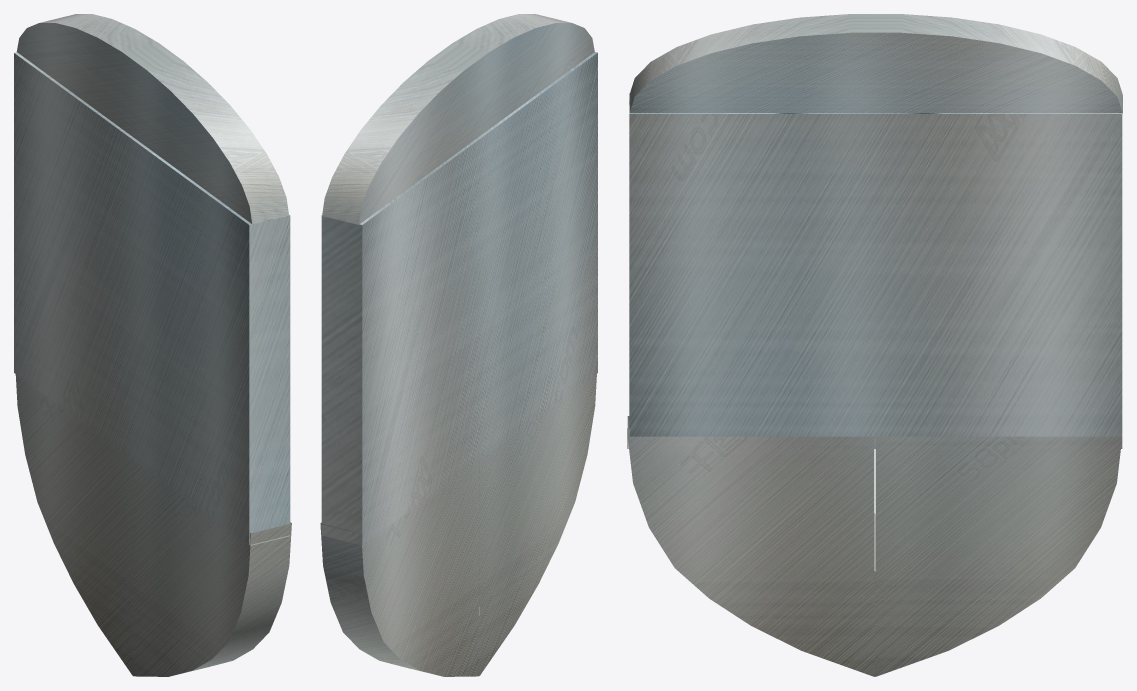
Rendered from 5S_06hudun.FBX.
3 renders of one model, left to right at view 1: azimuth 30°, elevation 25°; view 2: azimuth 150°, elevation 25°; view 3: azimuth 270°, elevation 25°, orthographic. The views are drawn at different scales.
Visible parts, largest first — view 1: 5S_22shield1_10; view 2: 5S_22shield1_10; view 3: 5S_22shield1_10.
Boxes of the visible parts, x1=… form: 5S_22shield1_10: x1=14, y1=14, x2=291, y2=676; 5S_22shield1_10: x1=320, y1=14, x2=597, y2=676; 5S_22shield1_10: x1=627, y1=14, x2=1122, y2=676.
Bounding box in the file's own units: 0.167 × 2.35 × 1.64.
Materials: 1 (1 with a texture image).
